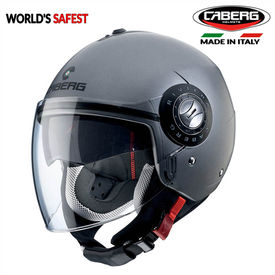with_helmet: (30, 26, 240, 267)
